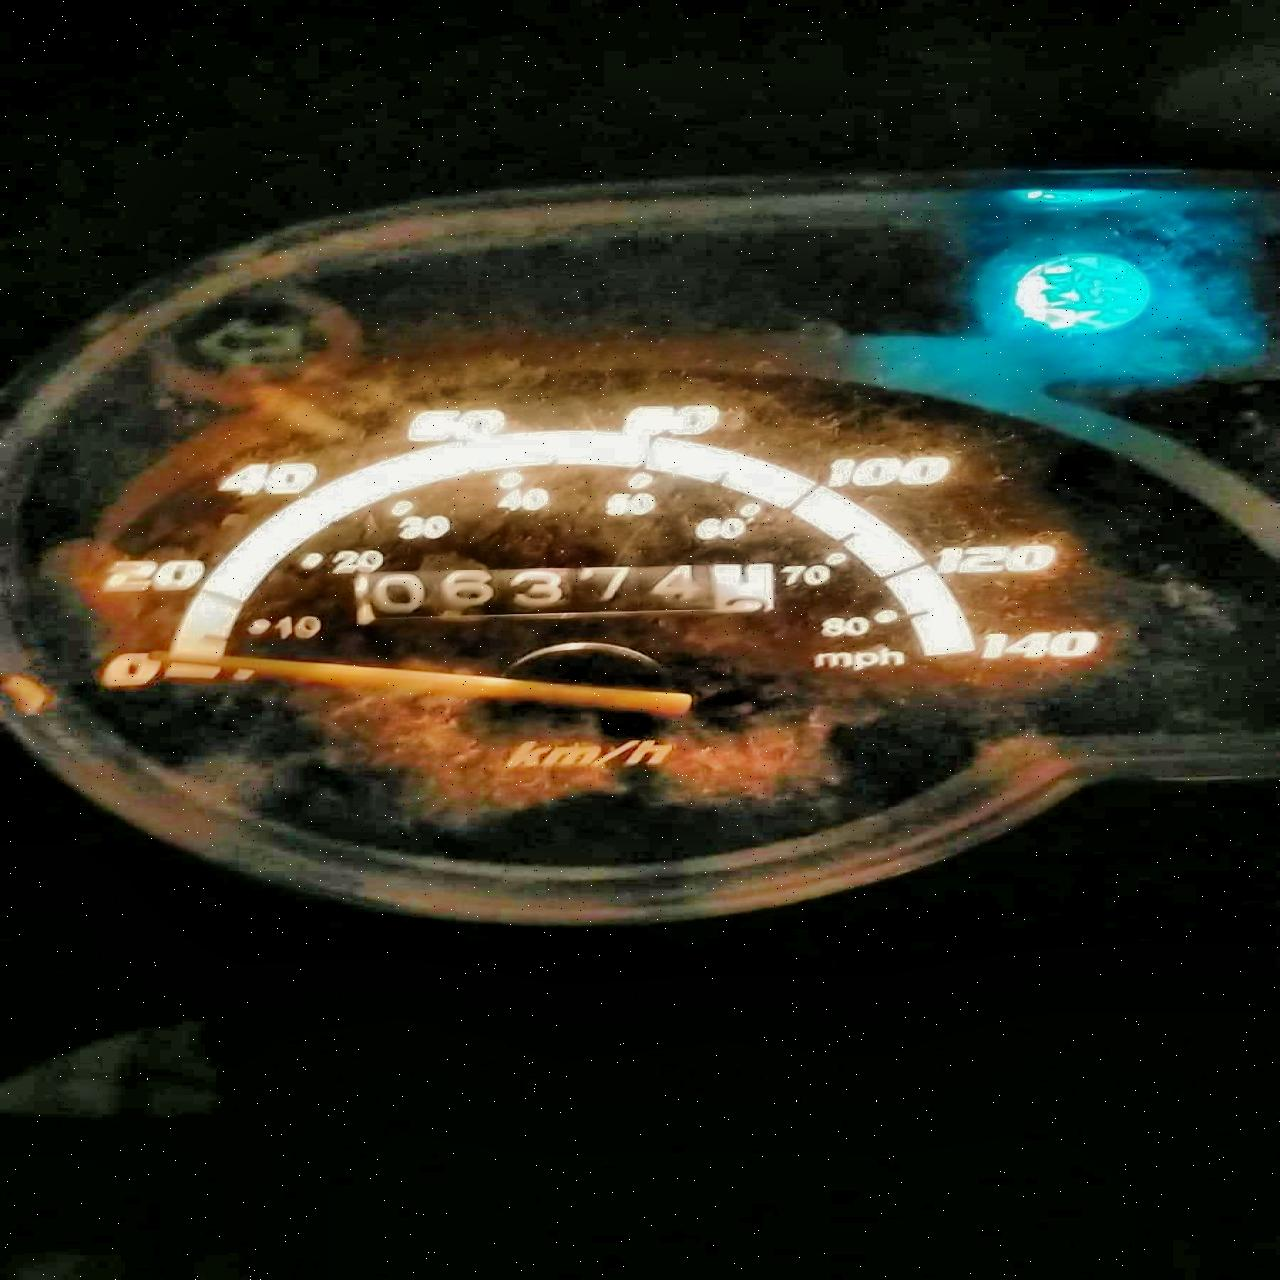0: (370, 576, 429, 615), (358, 546, 386, 572)
1: (729, 557, 764, 590)
3: (508, 566, 561, 607)
4: (649, 561, 703, 601)
6: (440, 566, 493, 608)
7: (576, 563, 634, 604), (781, 563, 808, 587)
odometer: (353, 549, 798, 625)
